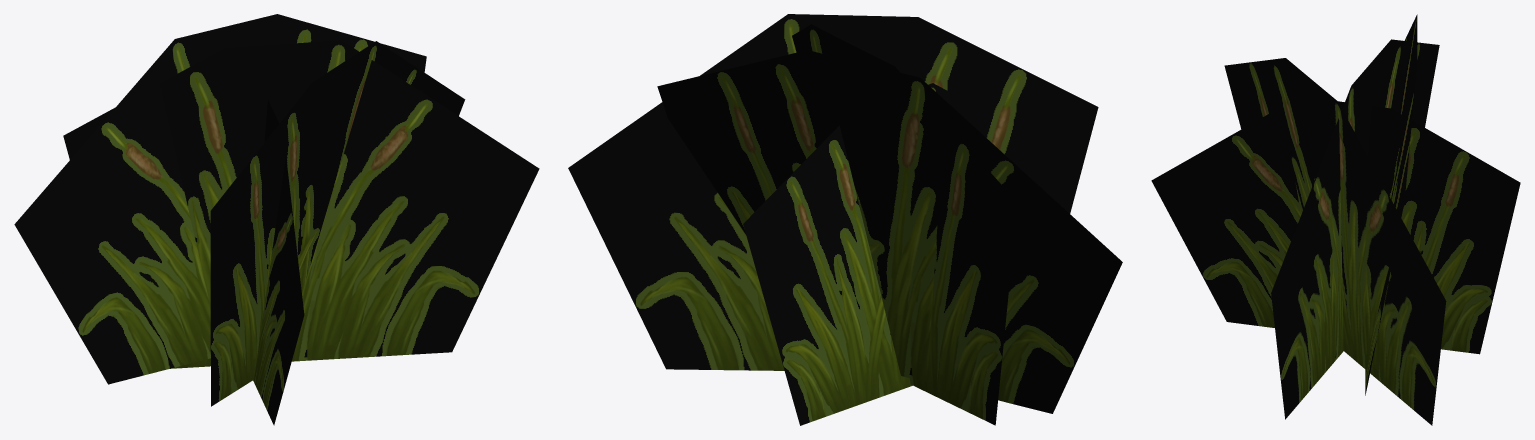
File: reeds_large.fbx
The picture shows the model from 3 angles, left to right: view 1: azimuth 30°, elevation 25°; view 2: azimuth 150°, elevation 25°; view 3: azimuth 270°, elevation 25°; orthographic projection. The views are drawn at different scales.
Visible parts, largest first — view 1: reeds_large; view 2: reeds_large; view 3: reeds_large.
Boxes of the visible parts, x1=… form: reeds_large: x1=14, y1=14, x2=539, y2=425; reeds_large: x1=568, y1=14, x2=1122, y2=425; reeds_large: x1=1151, y1=14, x2=1520, y2=425.
Size of the model in its own units: 5.97 by 3.77 by 4.11.
